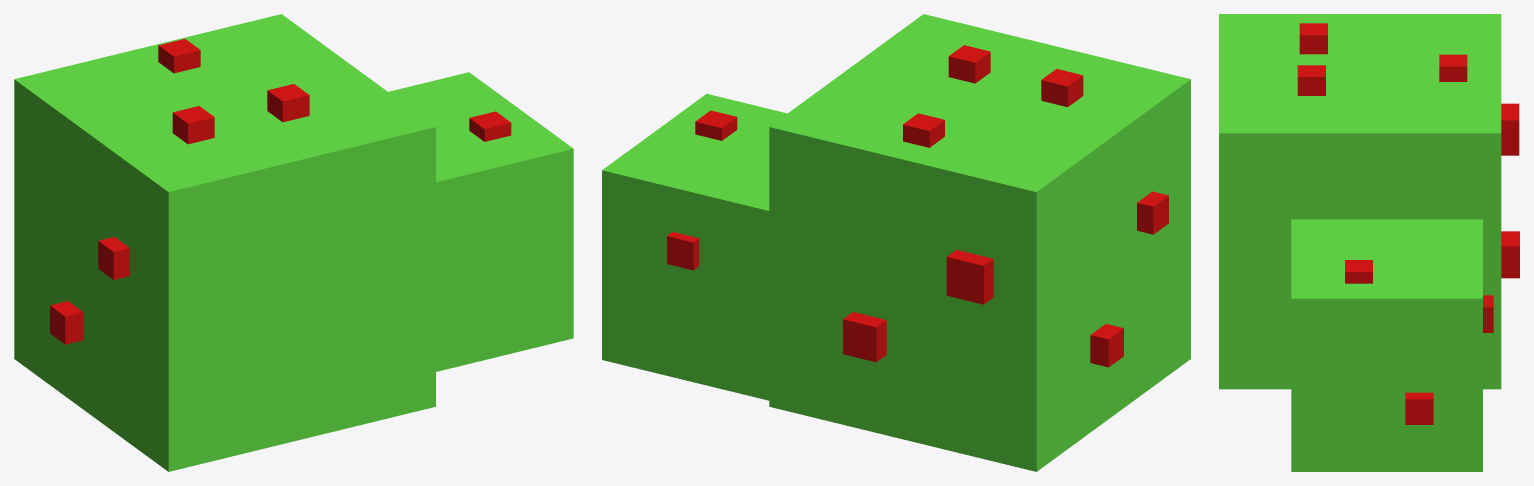
File: bush.fbx
3 views of the same model, side by side, from view 1: azimuth 30°, elevation 25°; view 2: azimuth 150°, elevation 25°; view 3: azimuth 270°, elevation 25° (orthographic). The views are drawn at different scales.
Parts seen in each view (by area): view 1: bush; view 2: bush; view 3: bush.
Boxes of the visible parts, x1=… form: bush: x1=14, y1=14, x2=573, y2=471; bush: x1=602, y1=14, x2=1190, y2=471; bush: x1=1219, y1=14, x2=1519, y2=471.
Bounding box in the file's own units: 71.48 × 43.53 × 42.62.
